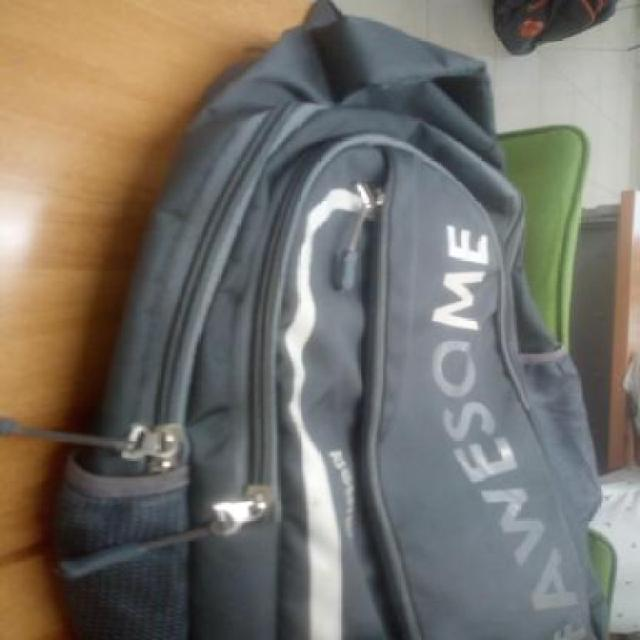backpack: (48, 0, 617, 640)
